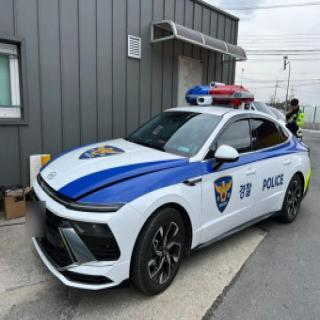Police_car: (26, 82, 312, 294)
